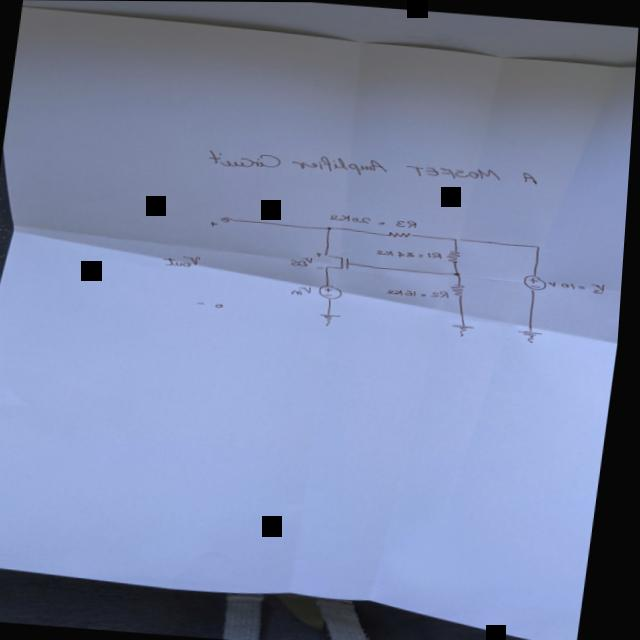ground: (519, 326, 549, 342), (321, 309, 346, 326), (453, 322, 480, 336)
junction: (455, 269, 465, 275), (327, 223, 337, 229), (455, 235, 465, 240), (536, 242, 545, 247)
resistor: (388, 228, 418, 238), (447, 247, 465, 262), (452, 280, 469, 295)
source: (524, 272, 552, 290), (319, 282, 347, 299)
terminal: (222, 214, 239, 221), (217, 300, 228, 307)
text: (206, 144, 544, 189), (330, 210, 421, 227), (377, 245, 447, 259), (549, 277, 611, 292), (388, 284, 454, 297), (164, 252, 205, 267), (292, 253, 318, 265), (293, 282, 317, 294), (211, 219, 221, 226), (198, 299, 210, 304), (317, 263, 327, 268), (318, 249, 326, 255)
transistor: (324, 250, 356, 268)
